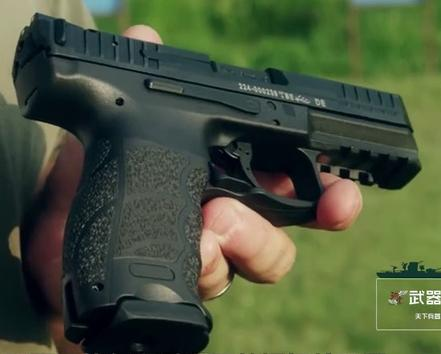gun: (1, 0, 441, 354)
